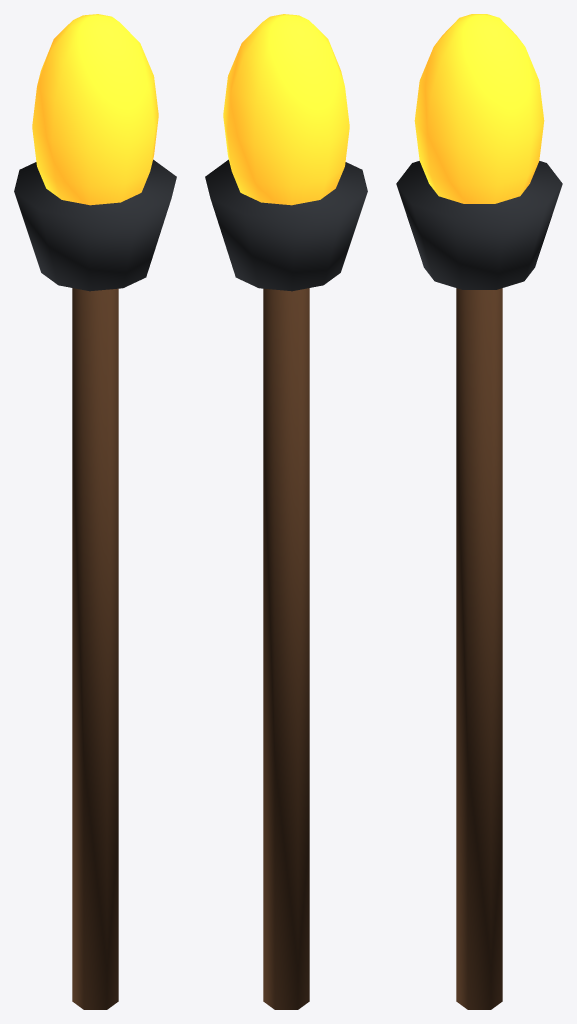
File: prop_obor.glb
3 views of the same model, side by side, from view 1: azimuth 30°, elevation 25°; view 2: azimuth 150°, elevation 25°; view 3: azimuth 270°, elevation 25° (orthographic).
Visible parts, largest first — view 1: obor; view 2: obor; view 3: obor.
Boxes of the visible parts, <box> form: obor: <box>14,14,176,1009</box>; obor: <box>205,14,367,1009</box>; obor: <box>396,14,562,1009</box>.
Bounding box in the file's own units: 0.3424 × 2.35 × 0.36.
